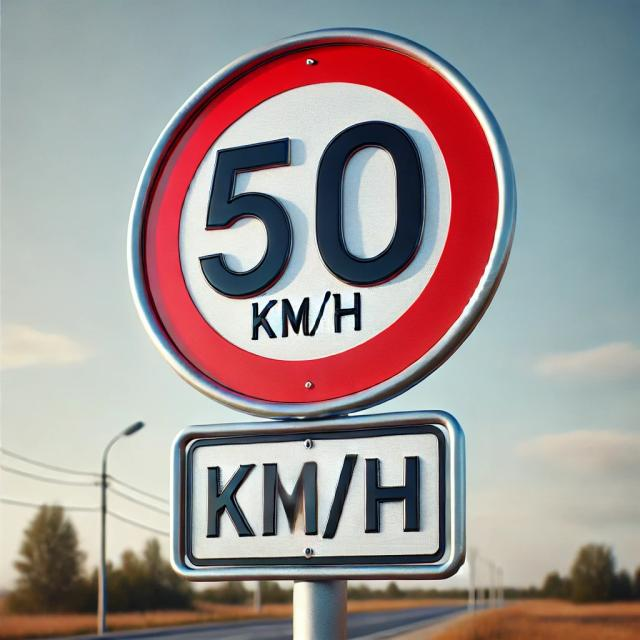Speed limit 50: (126, 27, 519, 420)
